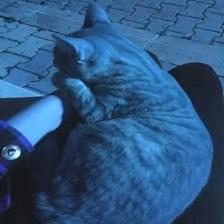kedo: (52, 1, 213, 224)
